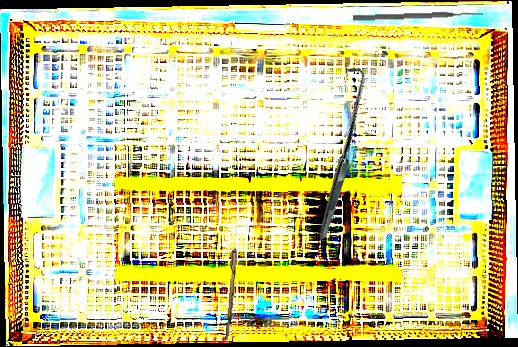Hook Surgical: (248, 63, 429, 241)
Pusher: (352, 9, 484, 23)
Surgical Spoon: (225, 217, 240, 341)
